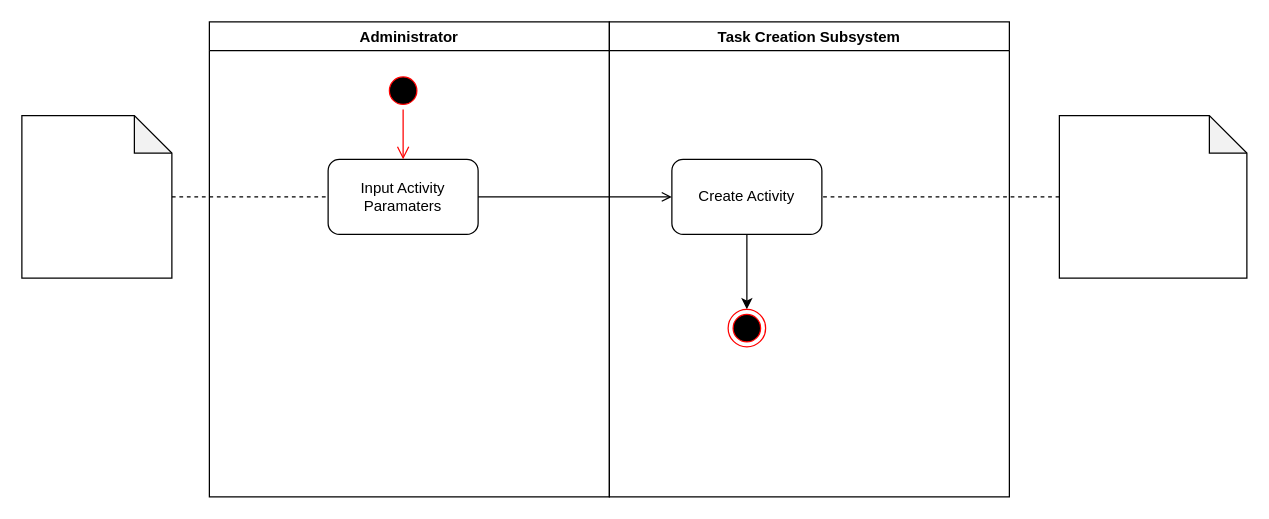
Image size: 1269x519. Some labels were removed from this diagram. Here are the shapes that lost their labels. From the top down, the centre of each, then its label:
At (x=96, y=196): "Parameters: Name Description".
At (x=1152, y=196): "An Activity is a type of class grouping. eg Consturction, Delivery, Surverys".
